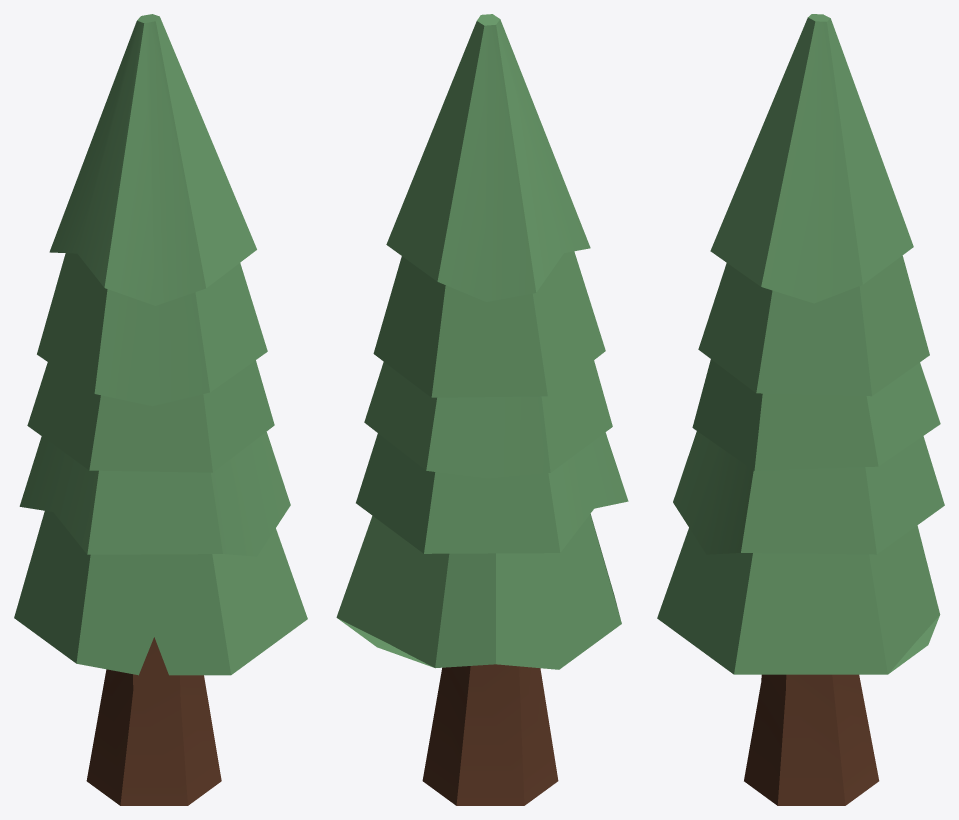
The model's file is Tree_03.fbx.
The picture shows the model from 3 angles, left to right: view 1: azimuth 30°, elevation 25°; view 2: azimuth 150°, elevation 25°; view 3: azimuth 270°, elevation 25°; orthographic projection.
Visible parts, largest first — view 1: Leaf_03, Tree_03; view 2: Leaf_03, Tree_03; view 3: Leaf_03, Tree_03.
Boxes of the visible parts, left/top/right/bottom form: Leaf_03: left=14, top=14, right=307, bottom=675; Tree_03: left=86, top=637, right=221, bottom=805; Leaf_03: left=336, top=14, right=628, bottom=669; Tree_03: left=422, top=664, right=558, bottom=805; Leaf_03: left=657, top=14, right=944, bottom=674; Tree_03: left=744, top=674, right=879, bottom=805.
Size of the model in its own units: 262 by 870 by 297.
